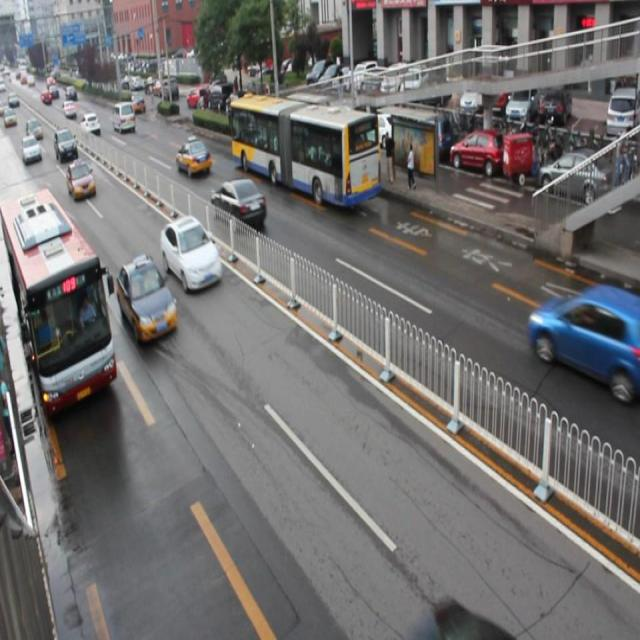car: (525, 285, 640, 399), (118, 253, 178, 341), (160, 215, 222, 292), (210, 179, 266, 230), (176, 136, 211, 177), (65, 157, 97, 200)
van: (1, 192, 116, 420), (230, 89, 382, 205)
